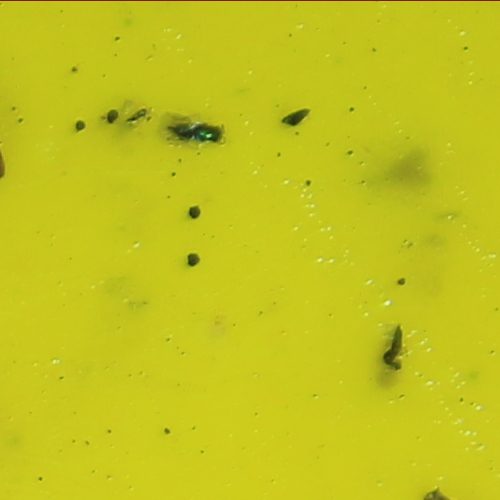Psyllaephagus: (167, 120, 227, 144)
